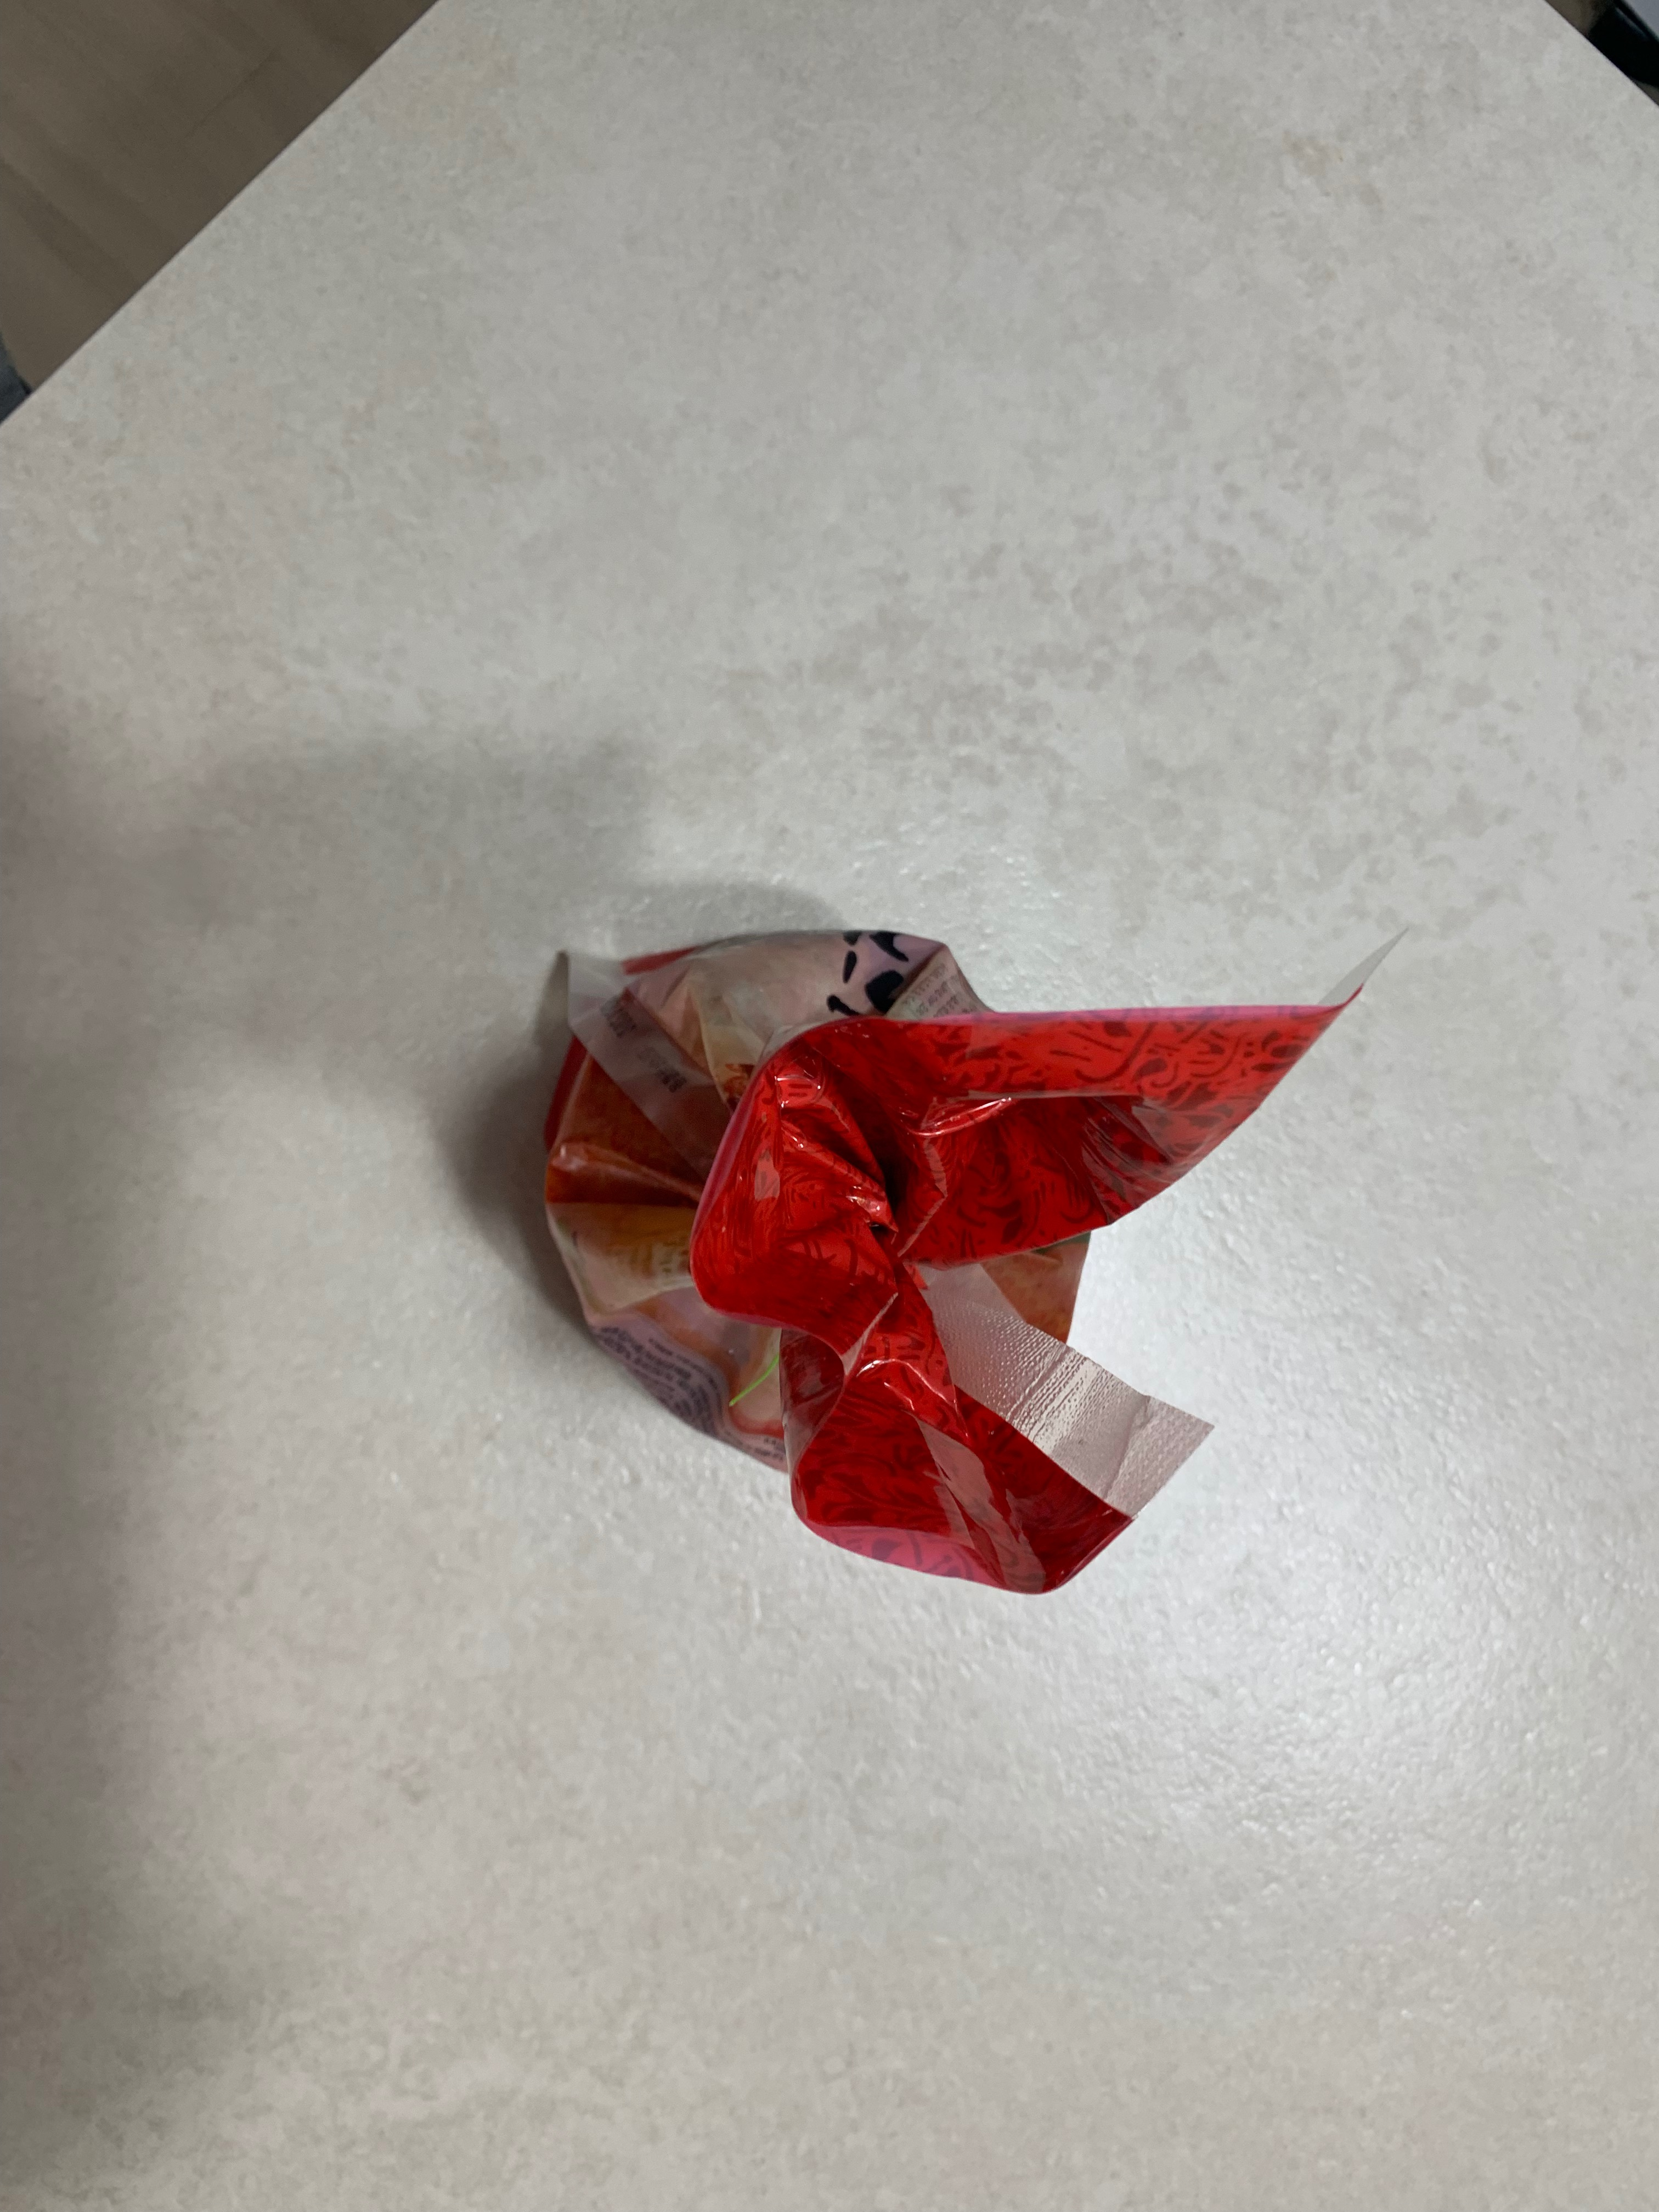kimchi: (519, 921, 1326, 1588)
